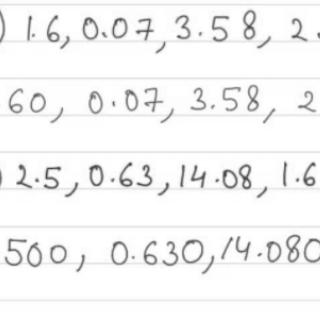.: (100, 29, 108, 39), (30, 31, 36, 41)
0: (87, 89, 105, 116), (80, 16, 99, 41), (29, 89, 47, 115), (110, 17, 129, 40)
1: (219, 237, 234, 260), (24, 12, 33, 40)
2: (289, 16, 311, 43), (294, 89, 318, 113), (16, 161, 32, 190)
3: (172, 13, 193, 42), (189, 82, 207, 112), (136, 160, 154, 189)
4: (234, 235, 252, 262), (191, 163, 206, 189)
5: (219, 84, 241, 115), (209, 13, 231, 43)
6: (7, 87, 27, 114), (141, 240, 160, 267), (44, 13, 61, 43), (118, 161, 134, 188)
7: (133, 14, 155, 42), (141, 86, 162, 114)
8: (241, 6, 261, 39), (246, 83, 261, 112)
